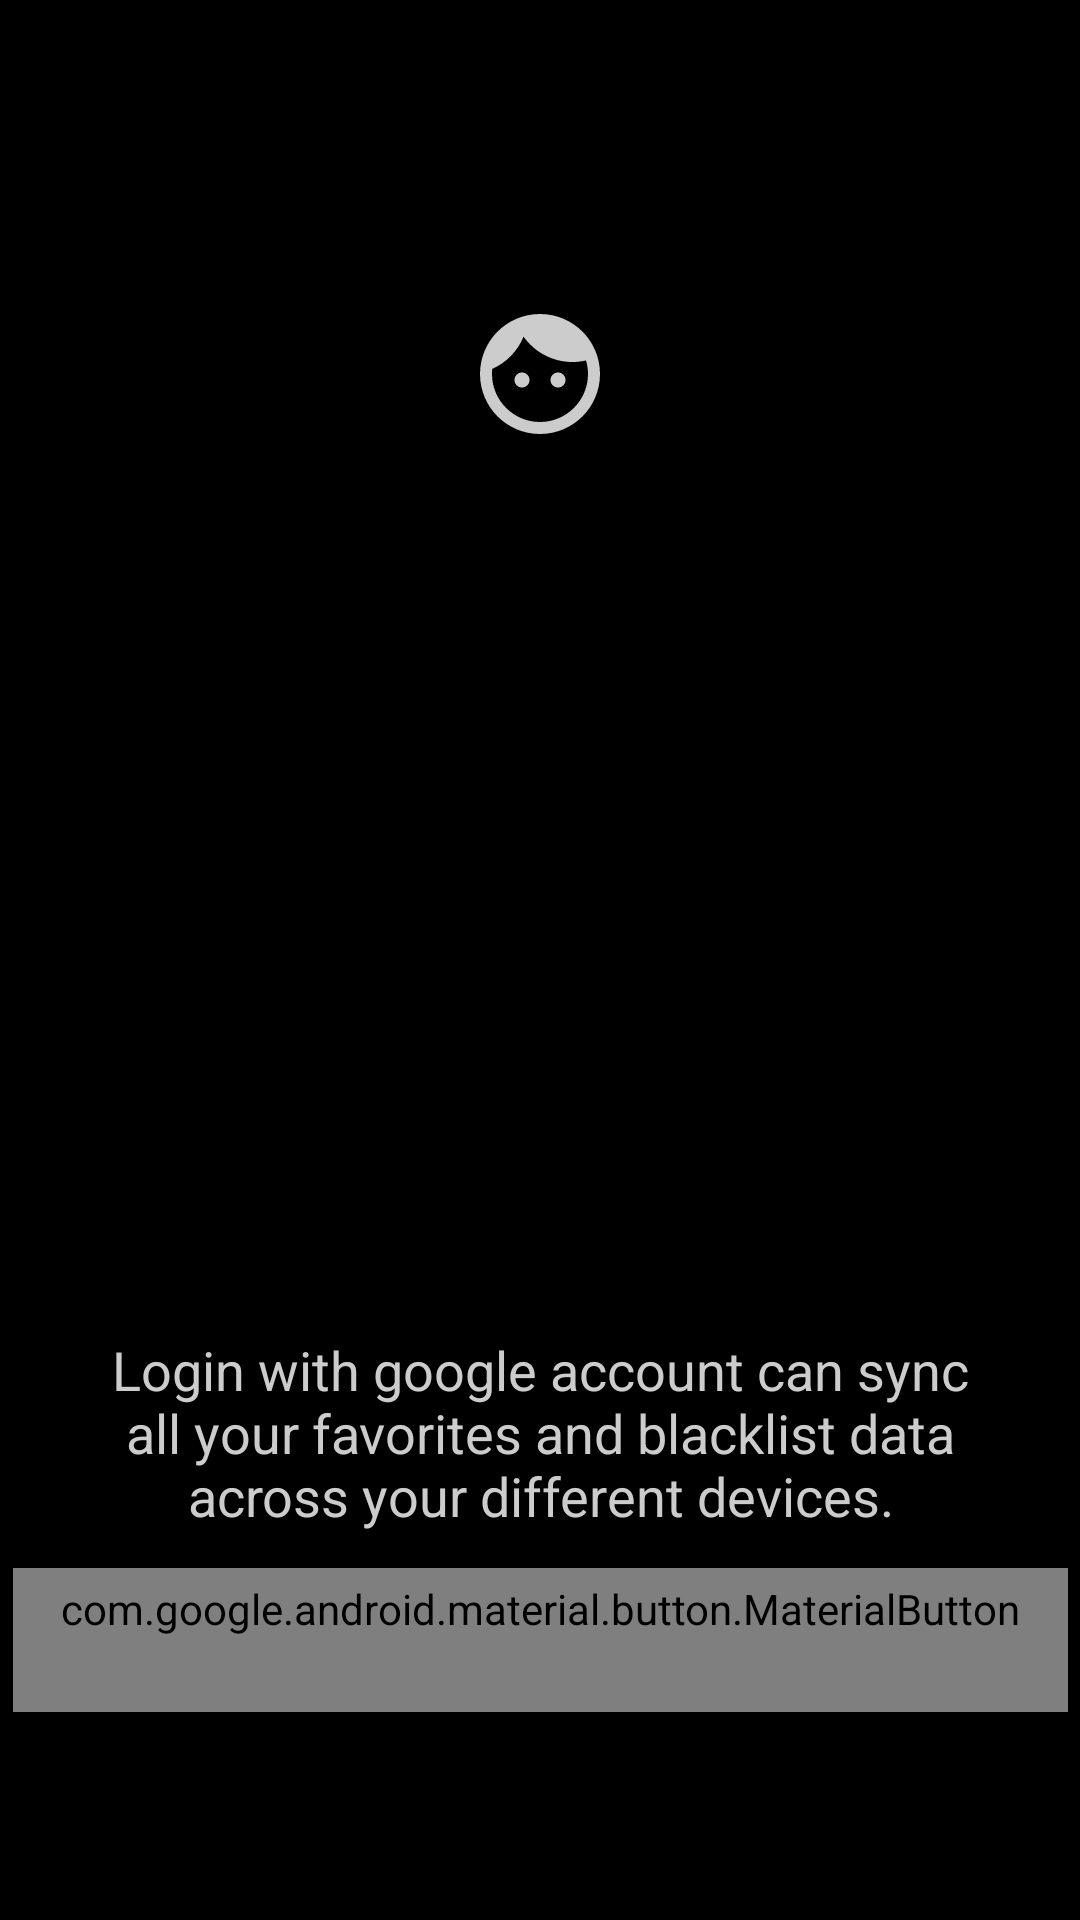

Icons on this 1080 × 1920 Android screen, each with its box as (x1, y1, x2, y2):
login: (480, 314, 600, 434)
